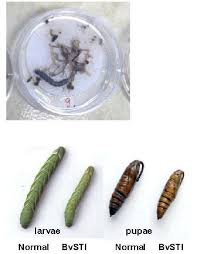larva: (9, 136, 65, 230), (58, 145, 97, 230)
pupa: (103, 148, 146, 221), (154, 156, 190, 224)
